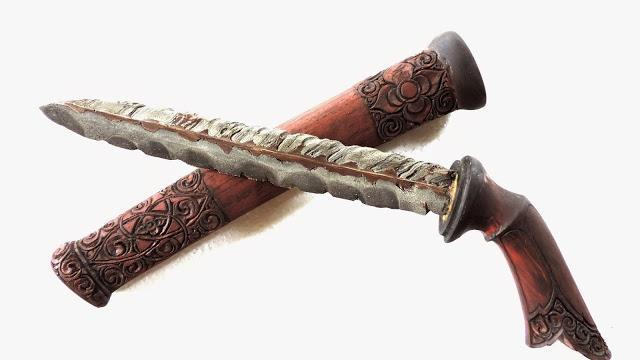facao: (24, 72, 640, 360)
